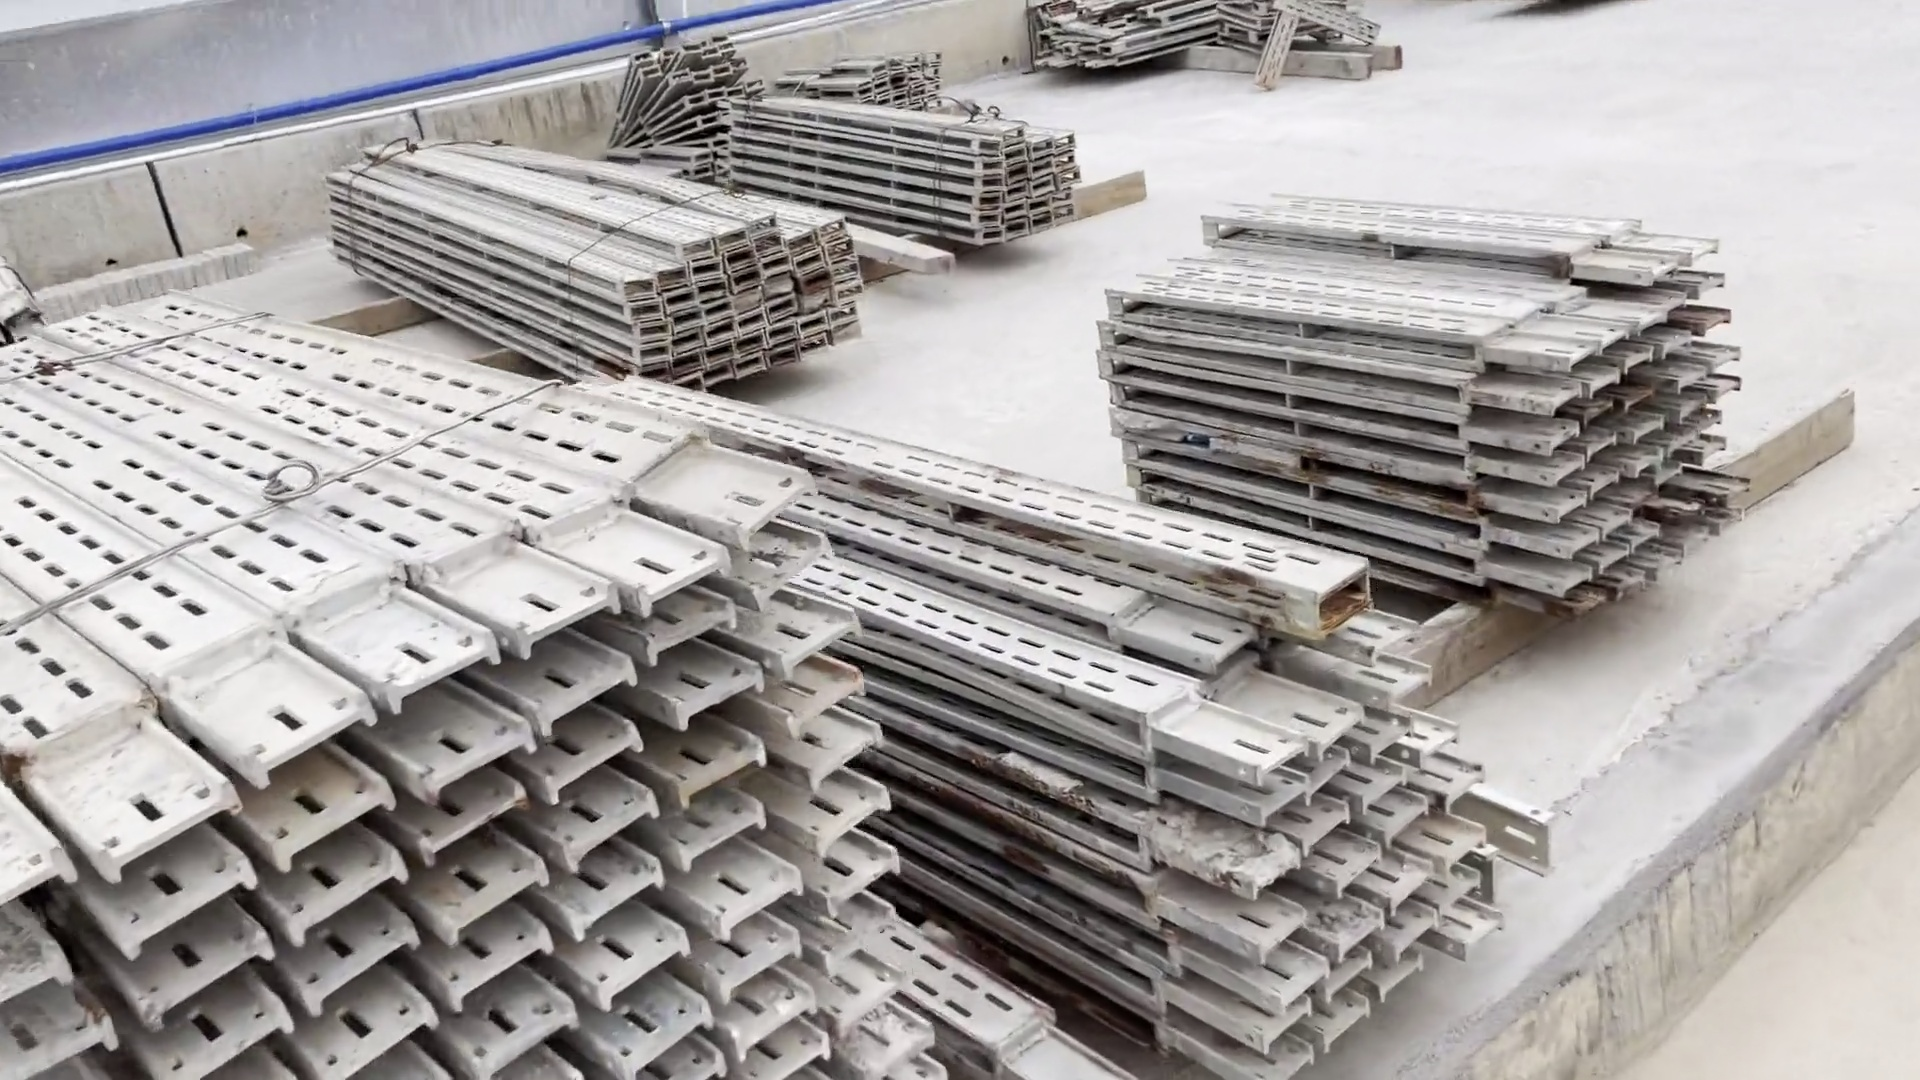brick: (32, 239, 290, 318)
